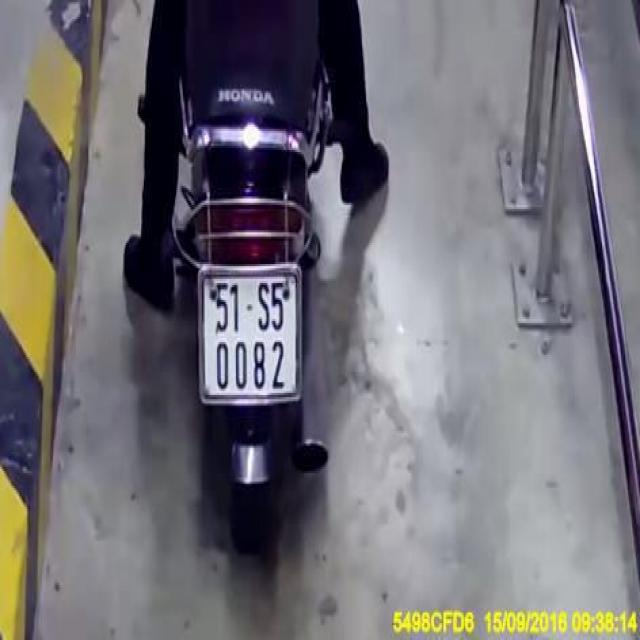License-Plates: (191, 255, 306, 414)
